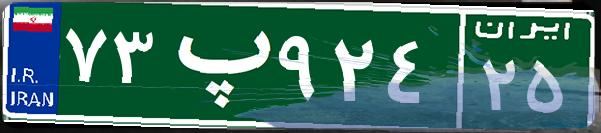2: (330, 28, 385, 110), (475, 38, 525, 113)
3: (110, 28, 158, 105)
4: (385, 28, 445, 110)
5: (525, 38, 570, 115)
7: (57, 26, 110, 107)
9: (273, 28, 330, 110)
پ: (158, 15, 273, 115)
